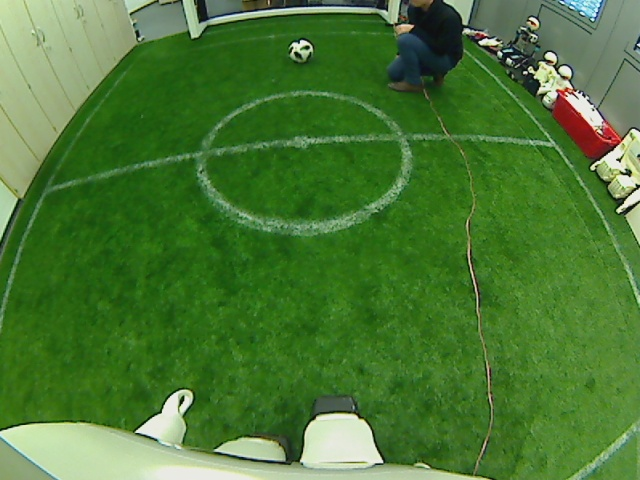ball: (286, 38, 315, 63)
